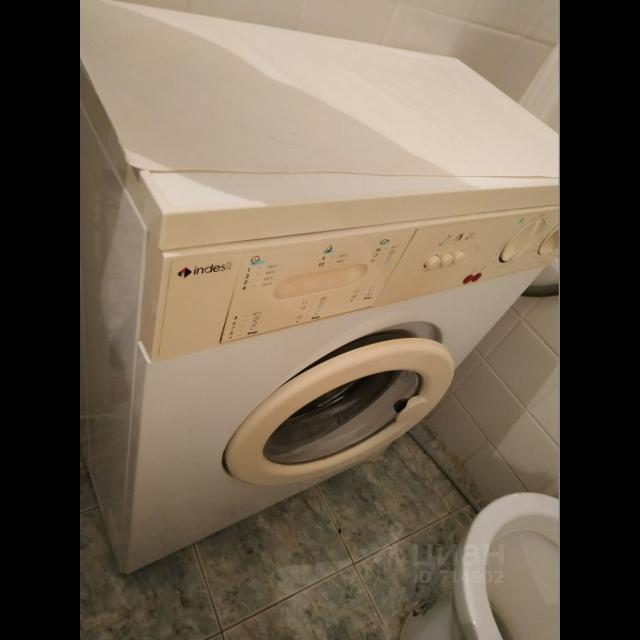Washing-Machine: (80, 4, 560, 528)
